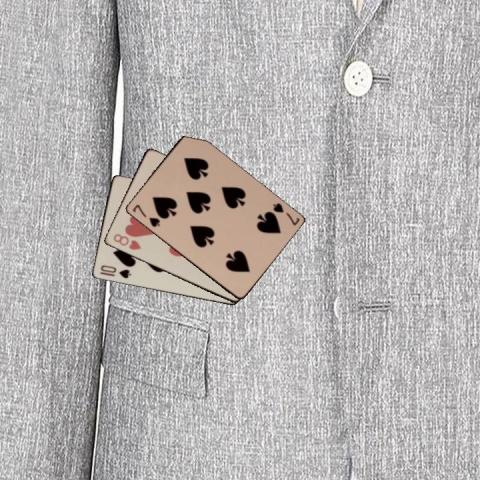10s: (97, 262, 132, 280)
7s: (130, 201, 162, 229), (270, 200, 301, 227)
8h: (110, 231, 143, 251)
